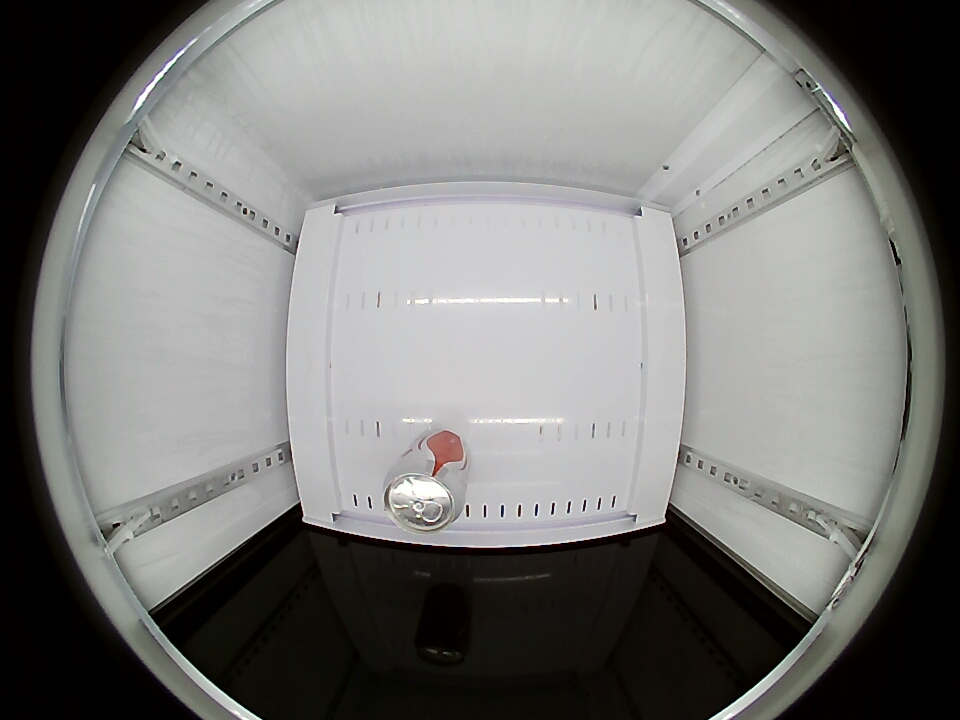jianlibao: (383, 458, 467, 533)
